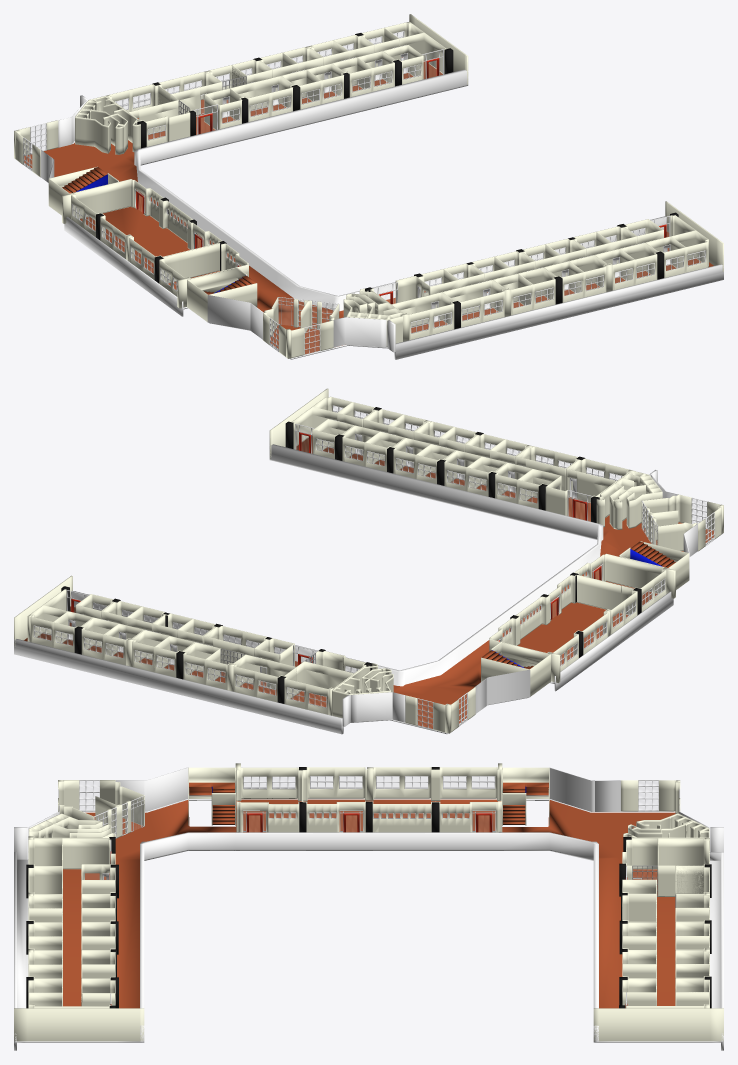
Rendered from Lantai 2.obj.
3 renders of one model, top to bottom at view 1: azimuth 30°, elevation 25°; view 2: azimuth 150°, elevation 25°; view 3: azimuth 270°, elevation 25°, orthographic. The views are drawn at different scales.
Visible parts, largest first — view 1: Lantai_2, Tembok_Lantai_2, Aula_Handayani, Pillar, Tangga, Lounge, Tata_Usaha, Ruang_Sidang, IF_224, IF_217B, IF_217A, IF_223 (+30 smaller); view 2: Lantai_2, Tembok_Lantai_2, Aula_Handayani, Pillar, Tangga, Lounge, Tata_Usaha, Ruang_Sidang, IF_223, IF_217B, IF_218, IF_224 (+32 smaller); view 3: Lantai_2, Aula_Handayani, Tembok_Lantai_2, Tangga, Ruang_Sidang, Tata_Usaha, Lounge, Pillar, IF_217B, IF_222, IF_218, IF_223 (+24 smaller).
Boxes of the visible parts, x1=… form: Lantai_2: x1=24, y1=14, x2=723, y2=359; Tembok_Lantai_2: x1=15, y1=95, x2=395, y2=352; Aula_Handayani: x1=71, y1=179, x2=221, y2=279; Pillar: x1=14, y1=21, x2=678, y2=358; Tangga: x1=48, y1=166, x2=257, y2=321; Lounge: x1=263, y1=297, x2=339, y2=358; Tata_Usaha: x1=108, y1=84, x2=192, y2=146; Ruang_Sidang: x1=159, y1=243, x2=248, y2=296; IF_224: x1=230, y1=76, x2=293, y2=121; IF_217B: x1=370, y1=288, x2=454, y2=340; IF_217A: x1=442, y1=280, x2=505, y2=327; IF_223: x1=158, y1=72, x2=222, y2=115; Lantai_2: x1=14, y1=388, x2=713, y2=734; Tembok_Lantai_2: x1=342, y1=470, x2=697, y2=732; Aula_Handayani: x1=489, y1=574, x2=637, y2=671; Pillar: x1=27, y1=407, x2=723, y2=733; Tangga: x1=481, y1=541, x2=689, y2=696; Lounge: x1=641, y1=494, x2=721, y2=551; Tata_Usaha: x1=284, y1=651, x2=366, y2=714; Ruang_Sidang: x1=574, y1=553, x2=666, y2=611; IF_223: x1=233, y1=654, x2=296, y2=702; IF_217B: x1=566, y1=458, x2=629, y2=502; IF_218: x1=517, y1=469, x2=567, y2=515; IF_224: x1=203, y1=625, x2=267, y2=664; Lantai_2: x1=14, y1=787, x2=723, y2=1050; Aula_Handayani: x1=302, y1=767, x2=502, y2=832; Tembok_Lantai_2: x1=14, y1=767, x2=723, y2=859; Tangga: x1=188, y1=767, x2=549, y2=825; Ruang_Sidang: x1=236, y1=767, x2=302, y2=832; Tata_Usaha: x1=622, y1=838, x2=709, y2=896; Lounge: x1=58, y1=780, x2=144, y2=838; Pillar: x1=26, y1=763, x2=711, y2=1008; IF_217B: x1=28, y1=838, x2=110, y2=869; IF_222: x1=622, y1=879, x2=656, y2=921; IF_218: x1=81, y1=853, x2=115, y2=893; IF_223: x1=675, y1=865, x2=709, y2=893.
Size of the model in its own units: 67.6 by 5.3 by 82.08.
